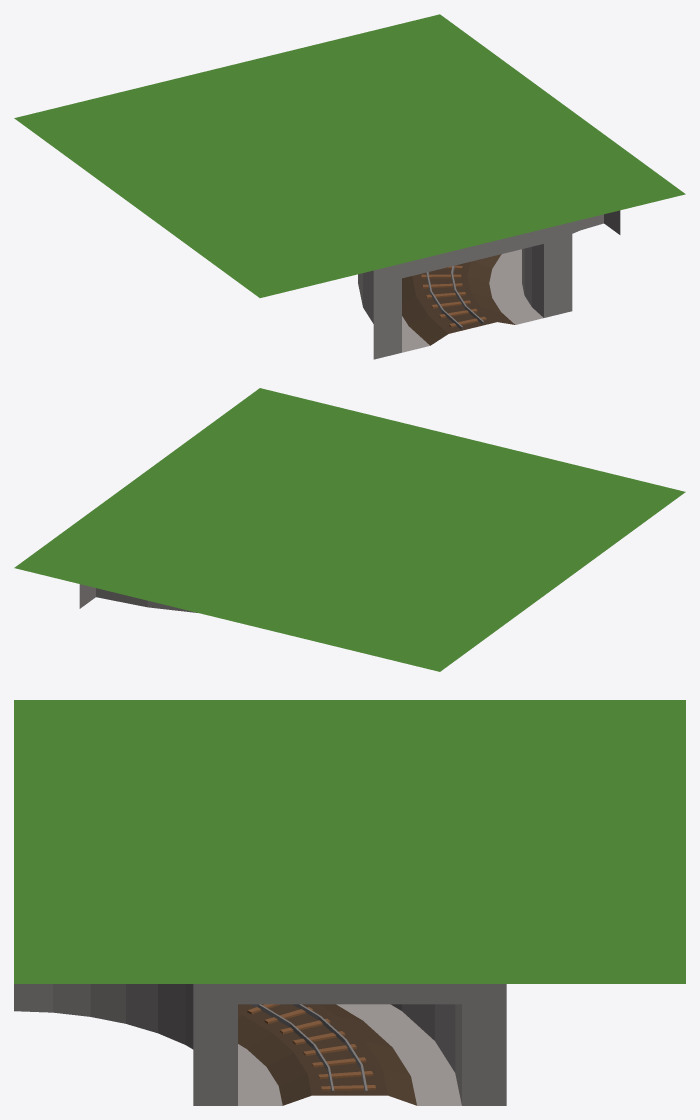
Rendered from tiles-nb_tile-rail-tunnel-curve-nb.fbx.
3 renders of one model, top to bottom at view 1: azimuth 30°, elevation 25°; view 2: azimuth 150°, elevation 25°; view 3: azimuth 270°, elevation 25°, orthographic. The views are drawn at different scales.
Parts seen in each view (by area): view 1: tiles_nb_tile_rail_tunnel_curve_nb; view 2: tiles_nb_tile_rail_tunnel_curve_nb; view 3: tiles_nb_tile_rail_tunnel_curve_nb.
Part boxes in pixels (x1,y1,x2,y2): tiles_nb_tile_rail_tunnel_curve_nb: (14, 14, 685, 359); tiles_nb_tile_rail_tunnel_curve_nb: (14, 388, 685, 671); tiles_nb_tile_rail_tunnel_curve_nb: (14, 700, 685, 1105).
Size of the model in its own units: 200 by 39.99 by 200.
